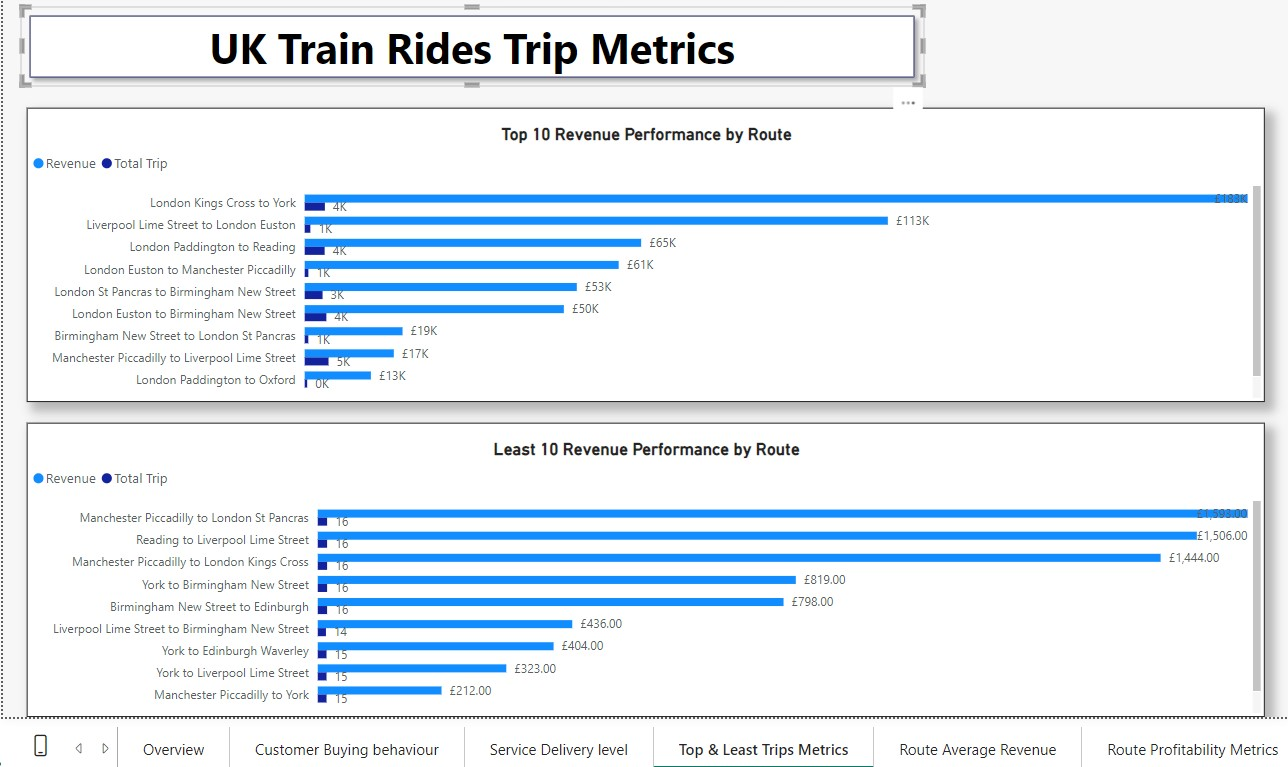

This screenshot's page, from the dashboard's own definition file:
{"tool":"powerbi","page":{"name":"Top & Least Trips Metrics","canvas":[1280,720],"ordinal":3},"visuals":[{"type":"clusteredBarChart","title":"Top 10 Revenue Performance  by Route","fields":{"Category":["railway_clean_data.Route"],"Y":["Sum(railway_clean_data.Price)","CountNonNull(railway_clean_data.Transaction ID)"]},"box":[23.3,113.8,1232.3,292.8],"z":0},{"type":"clusteredBarChart","title":"Least 10 Revenue Performance by Route","fields":{"Category":["railway_clean_data.Route"],"Y":["Sum(railway_clean_data.Price)","CountNonNull(railway_clean_data.Transaction ID)"]},"box":[23.3,427,1232.3,292.8],"z":1000},{"type":"shape","box":[17.5,12.6,898.7,79.8],"z":2000}]}

Visuals, with their boxes on the page's 1280x720 design canvas (x1, y1, x2, y2). These are canvas units, not pixel positions in the 1288x767 screenshot, which may show the page scaled, cropped or inside an application window:
"Top 10 Revenue Performance  by Route" clusteredBarChart: rect(23, 114, 1256, 407)
"Least 10 Revenue Performance by Route" clusteredBarChart: rect(23, 427, 1256, 720)
shape: rect(18, 13, 916, 92)
